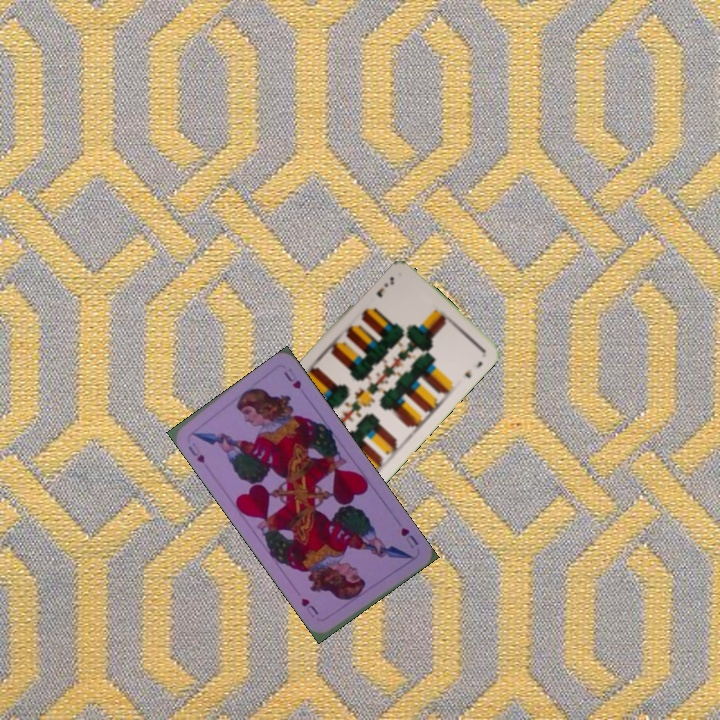E7: (372, 272, 397, 300)
HU: (396, 523, 421, 551), (184, 442, 208, 466)
